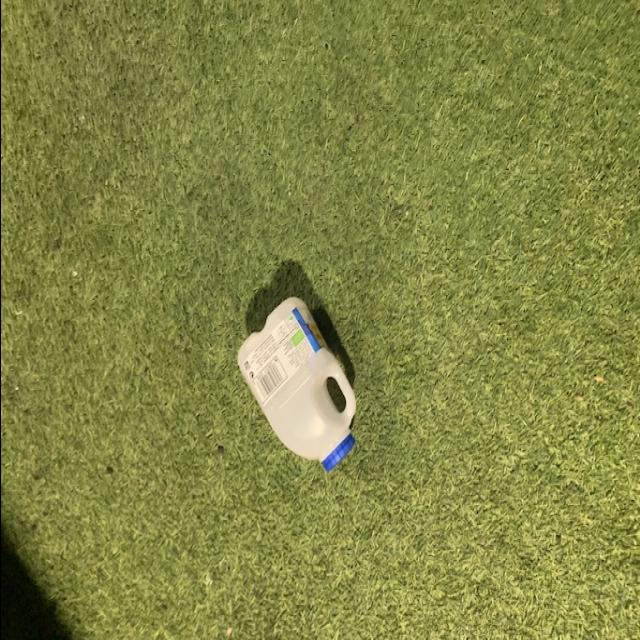HDPEM: (235, 294, 358, 470)
